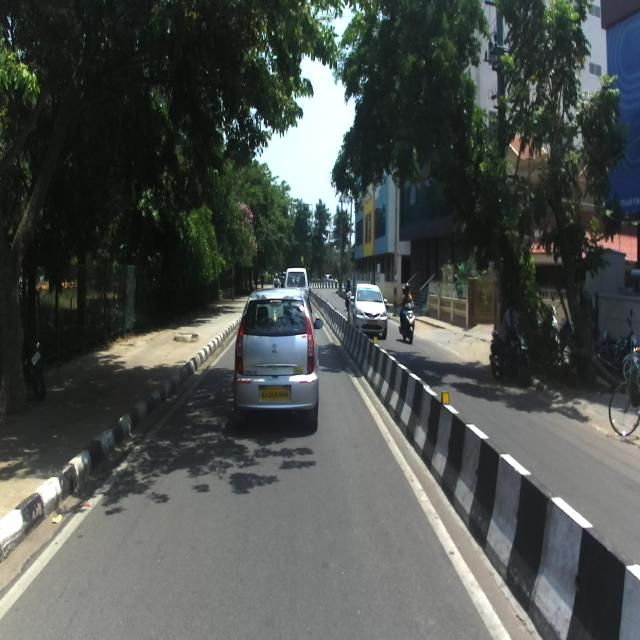car ahead at: (238, 291, 317, 428)
